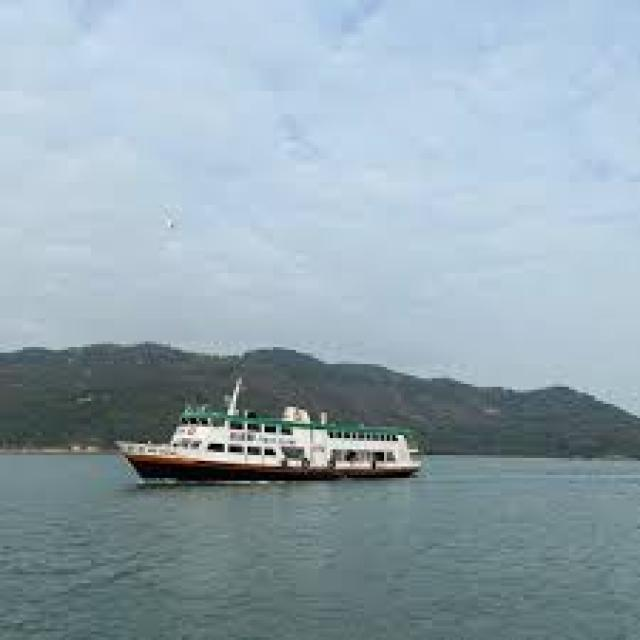houseboat: (112, 382, 426, 490)
